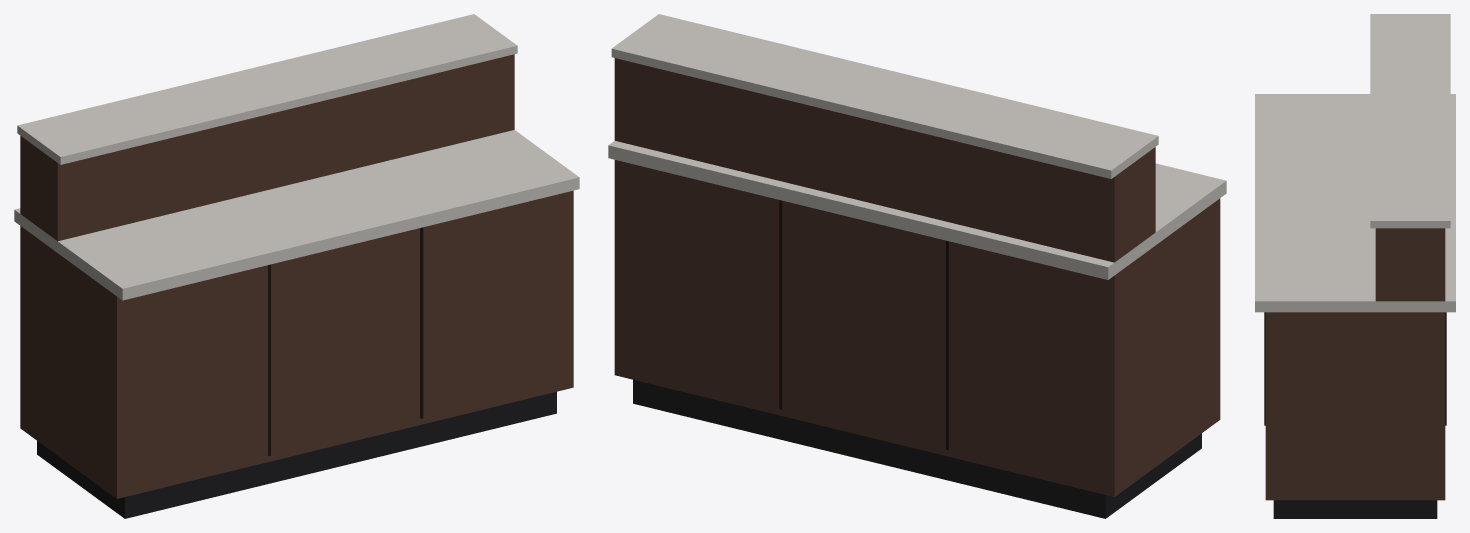
The model's file is Counter_Raised_L72in.glb.
The picture shows the model from 3 angles, left to right: view 1: azimuth 30°, elevation 25°; view 2: azimuth 150°, elevation 25°; view 3: azimuth 270°, elevation 25°; orthographic projection. The views are drawn at different scales.
Visible parts, largest first — view 1: Counter_Raised_L72in_Export; view 2: Counter_Raised_L72in_Export; view 3: Counter_Raised_L72in_Export.
Part boxes in pixels (x1=…): Counter_Raised_L72in_Export: x1=14, y1=14, x2=579, y2=518; Counter_Raised_L72in_Export: x1=608, y1=14, x2=1226, y2=518; Counter_Raised_L72in_Export: x1=1255, y1=14, x2=1455, y2=518.
Size of the model in its own units: 1.83 by 1.25 by 0.75.
